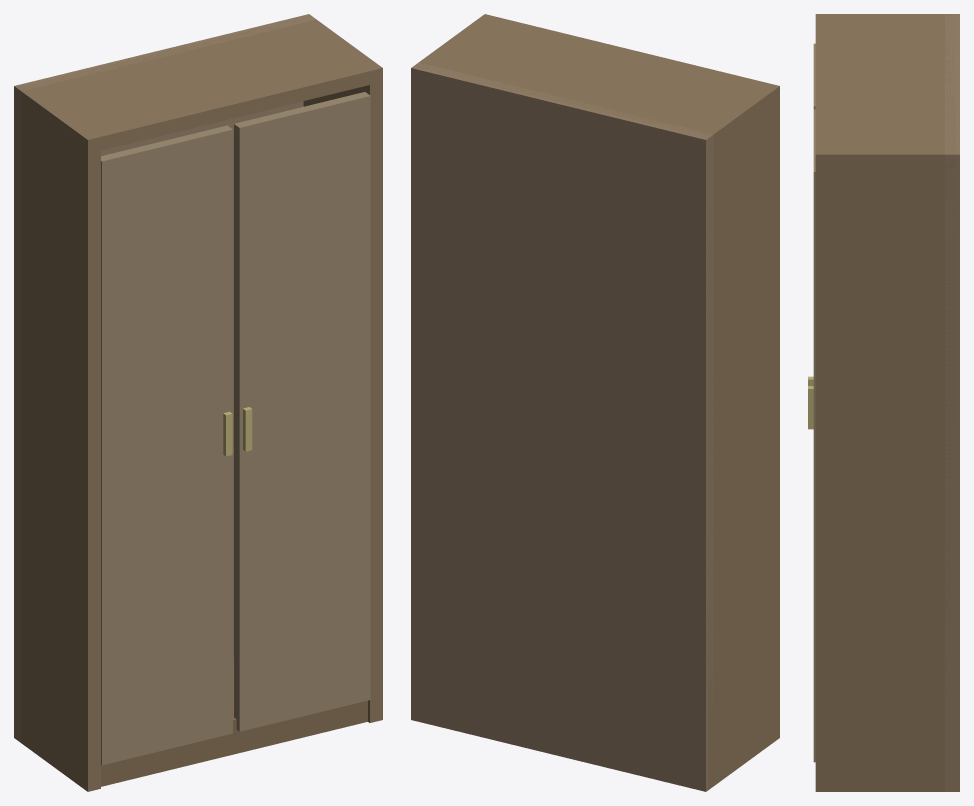
Rendered from bookcaseClosed.glb.
3 views of the same model, side by side, from view 1: azimuth 30°, elevation 25°; view 2: azimuth 150°, elevation 25°; view 3: azimuth 270°, elevation 25° (orthographic). The views are drawn at different scales.
Bounding box in the file's own units: 0.9 × 1.9 × 0.41.
